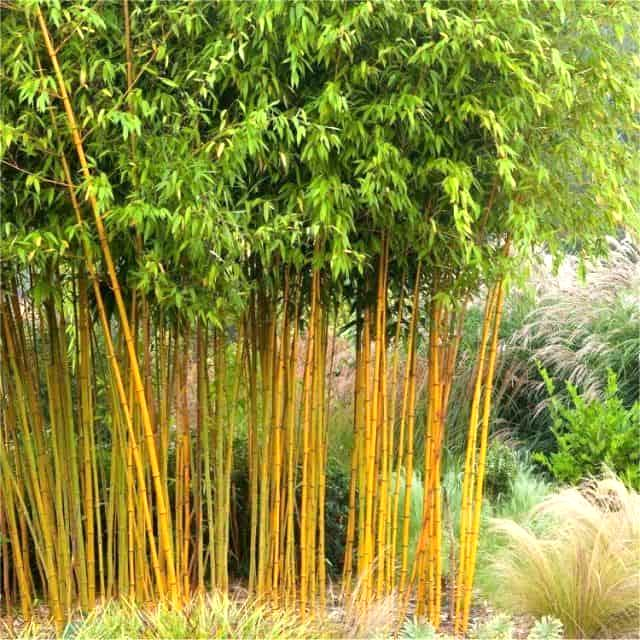Running: (0, 256, 511, 628)
